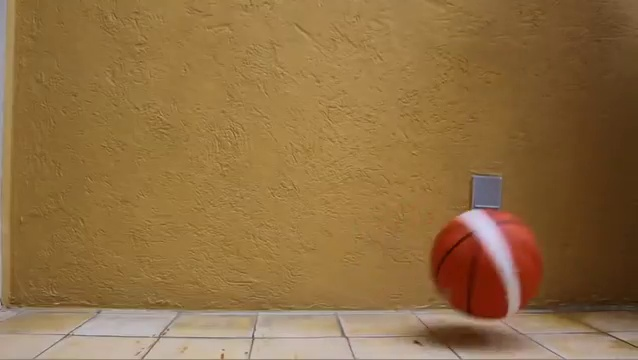ball: (430, 206, 547, 326)
